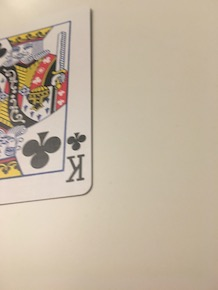KingOfClubs: (1, 5, 99, 211)
